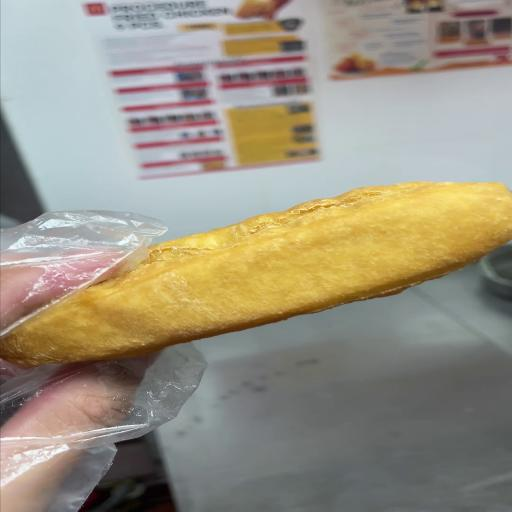brand_golden_good: (1, 182, 512, 366)
